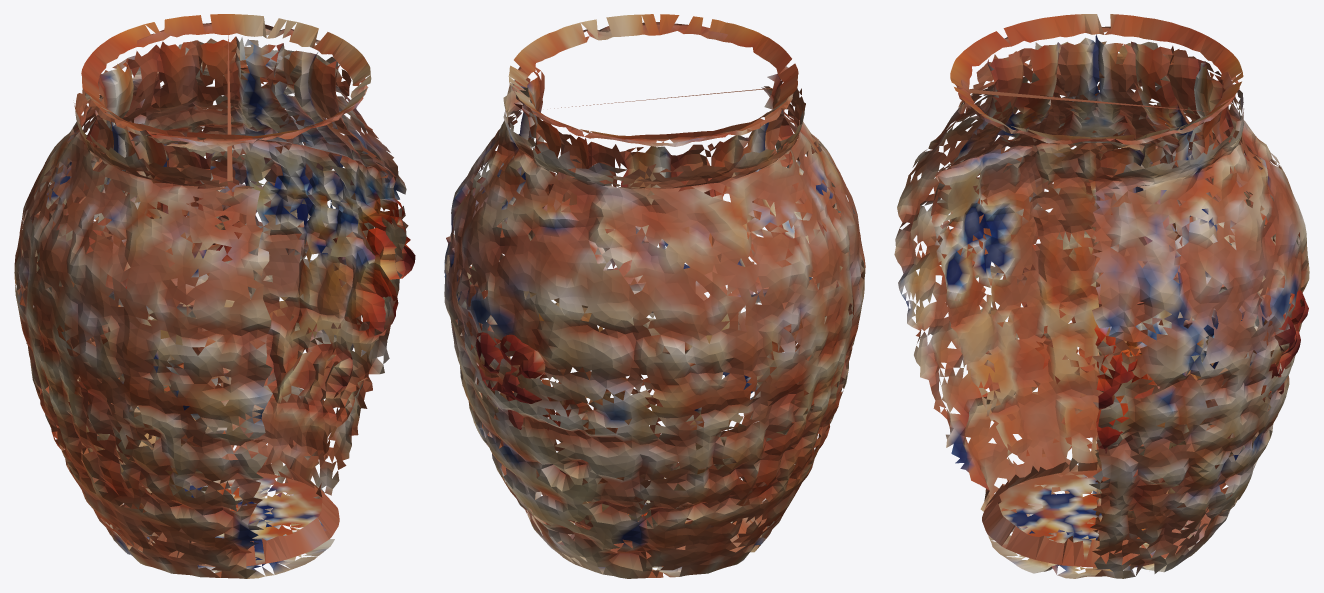
Rendered from vase2_final400.obj.
3 renders of one model, left to right at view 1: azimuth 30°, elevation 25°; view 2: azimuth 150°, elevation 25°; view 3: azimuth 270°, elevation 25°, orthographic.
Size of the model in its own units: 1.46 by 1.73 by 1.4.
